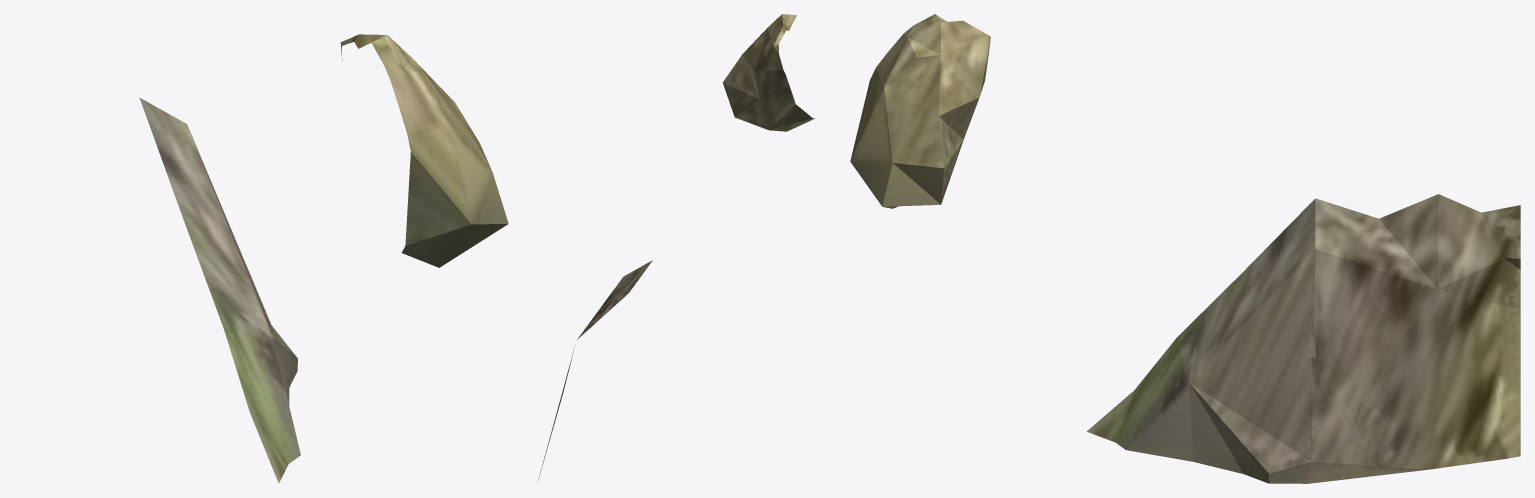
3 renders of one model, left to right at view 1: azimuth 30°, elevation 25°; view 2: azimuth 150°, elevation 25°; view 3: azimuth 270°, elevation 25°, orthographic. The views are drawn at different scales.
Size of the model in its own units: 0.7991 by 2.97 by 4.33.
1 material, 1 textured.
